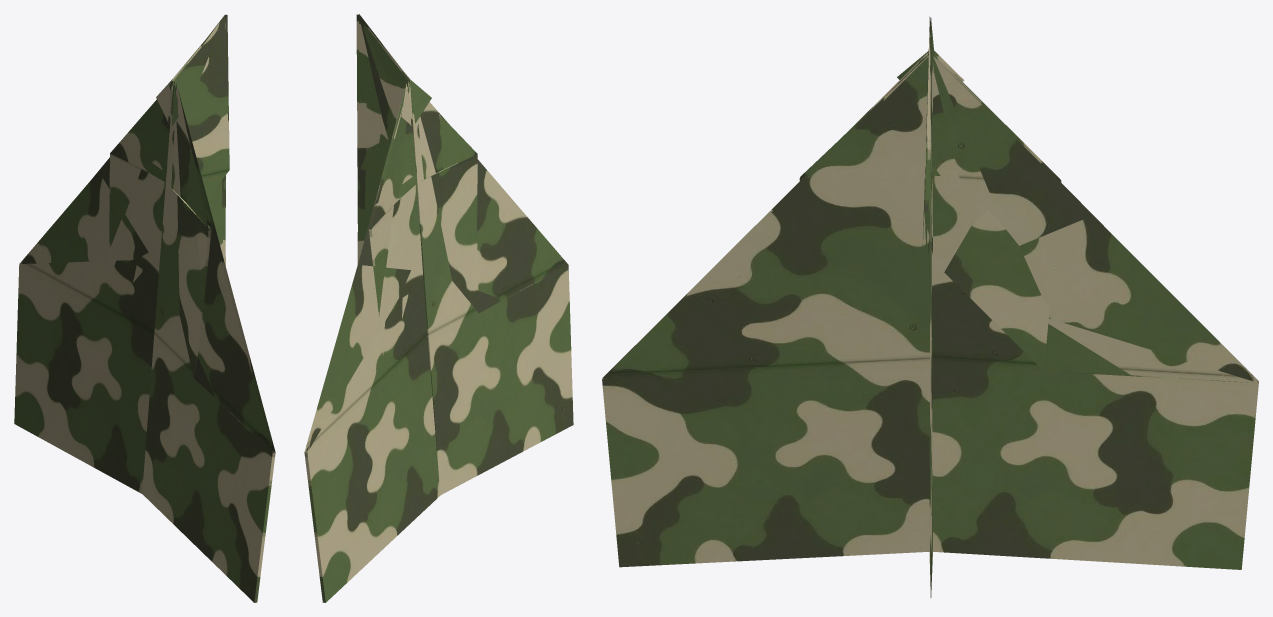
3 views of the same model, side by side, from view 1: azimuth 30°, elevation 25°; view 2: azimuth 150°, elevation 25°; view 3: azimuth 270°, elevation 25° (orthographic). The views are drawn at different scales.
Visible parts, largest first — view 1: Origami_Model_07.001; view 2: Origami_Model_07.001; view 3: Origami_Model_07.001.
Part boxes in pixels (box(x1,y1,x2,y2)): Origami_Model_07.001: box(14, 14, 275, 602); Origami_Model_07.001: box(304, 14, 573, 602); Origami_Model_07.001: box(602, 16, 1258, 597).
Size of the model in its own units: 0.0324 by 0.156 by 0.1524.
Materials: 1 (1 with a texture image).
